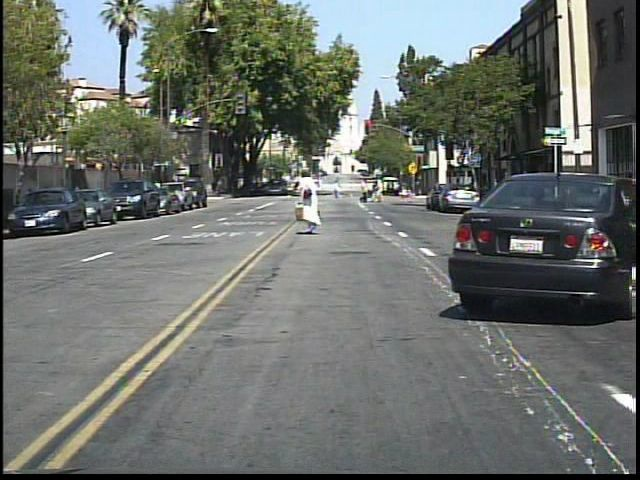person: (291, 165, 328, 239), (514, 167, 536, 225), (620, 164, 639, 228), (356, 176, 373, 206), (374, 177, 388, 205)
